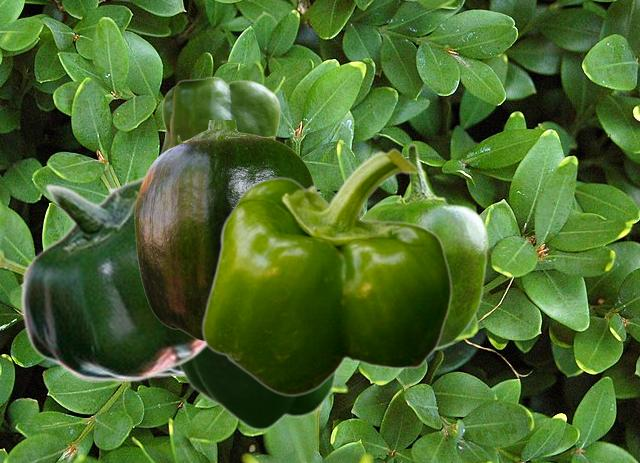bell_pepper: (201, 148, 451, 396), (134, 120, 314, 340), (19, 175, 206, 381), (361, 143, 488, 349), (178, 349, 338, 431), (159, 76, 280, 154)
